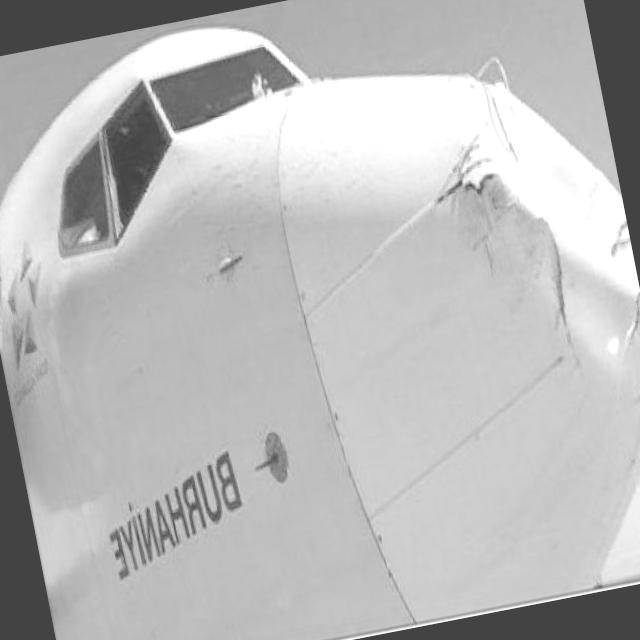dent: (416, 52, 632, 291)
